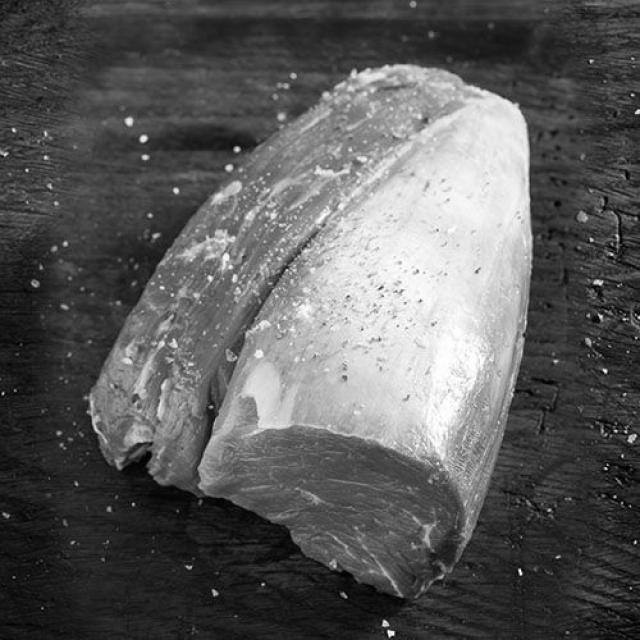thit than: (108, 55, 528, 594)
